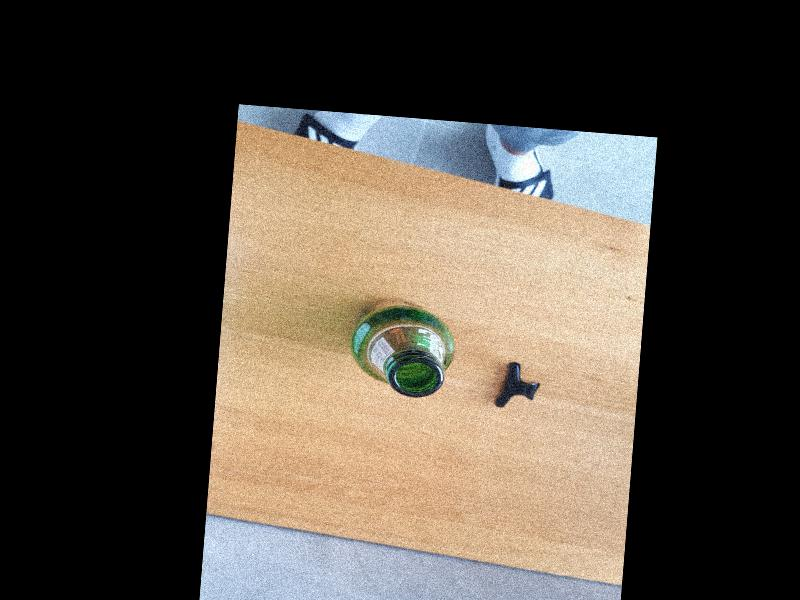Beer: (347, 294, 461, 399)
